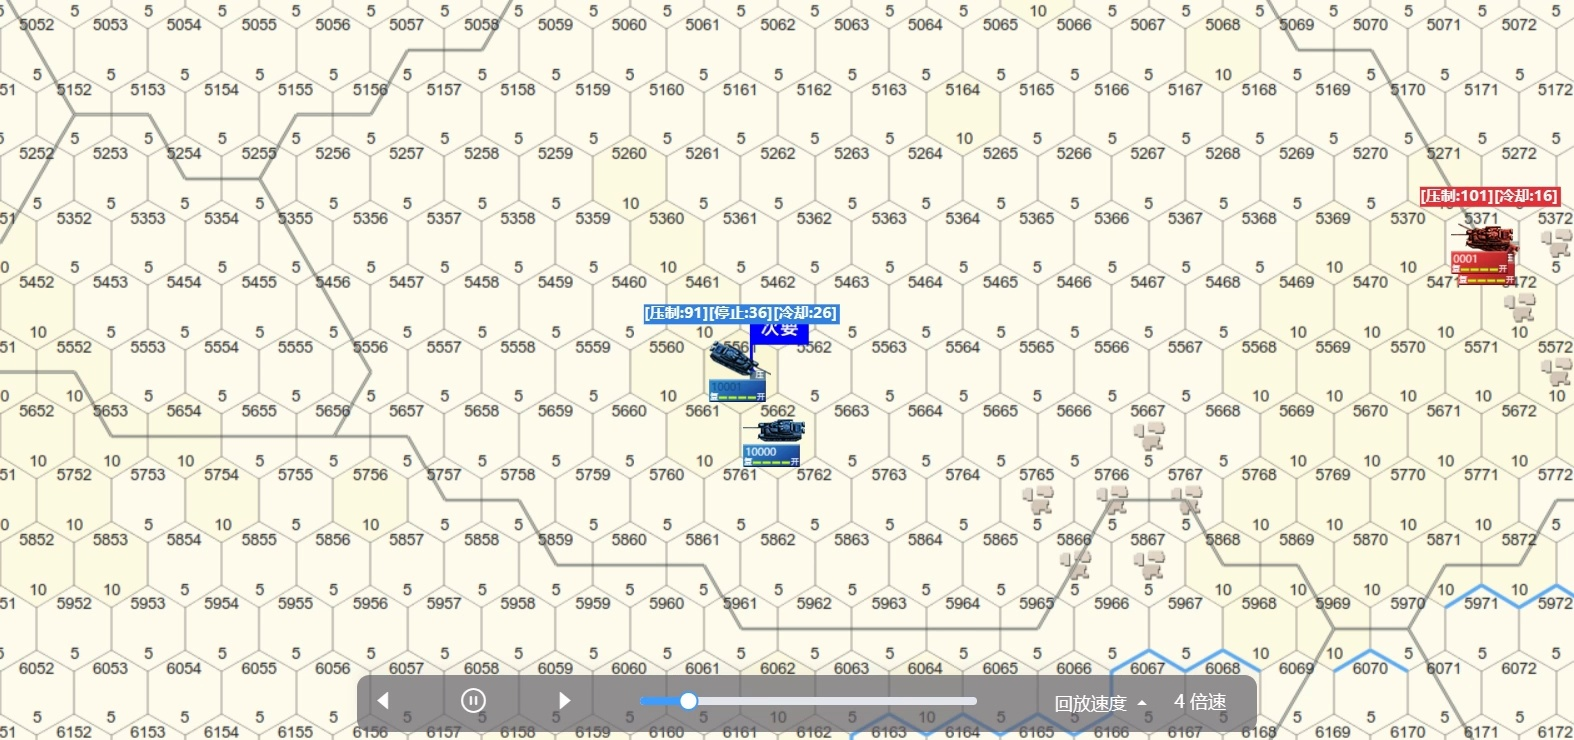blue_tank: (705, 343, 769, 398), (738, 422, 804, 469)
red_tank: (1448, 218, 1526, 286)
